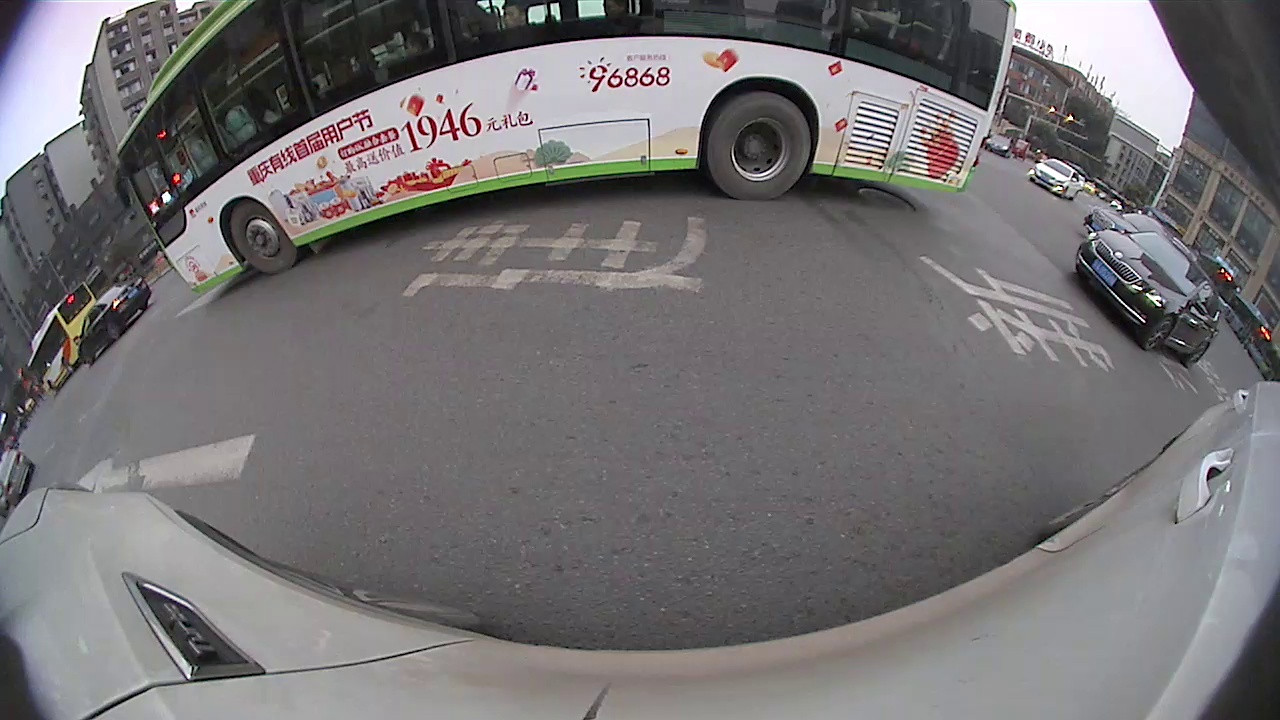bus: (113, 1, 1018, 297), (23, 280, 97, 402)
car: (1074, 226, 1224, 368), (75, 275, 156, 368), (1088, 202, 1180, 251), (1027, 155, 1083, 202)
front: (222, 196, 300, 278), (1141, 312, 1178, 353)
rear: (700, 85, 818, 203)
